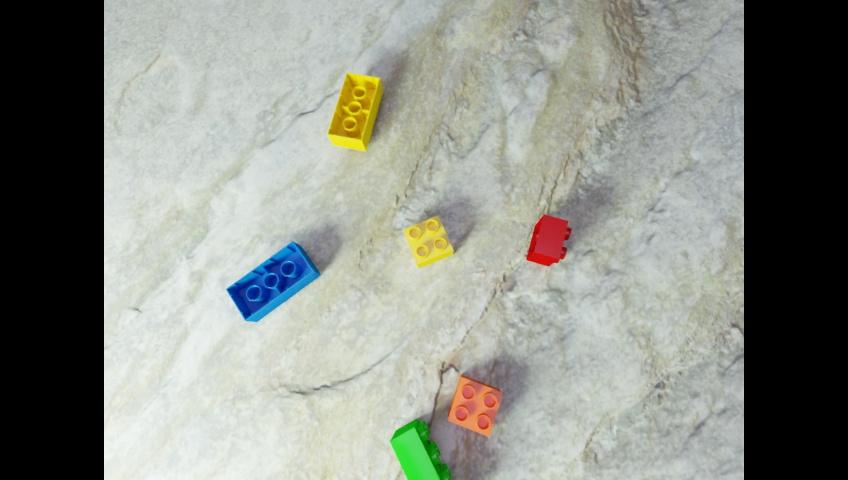2x2_orange: (447, 374, 501, 436)
2x2_red: (526, 213, 570, 266)
2x2_yellow: (402, 215, 452, 268)
4x2_blue: (225, 240, 320, 321)
4x2_green: (389, 417, 450, 480)
4x2_yellow: (327, 71, 382, 151)
